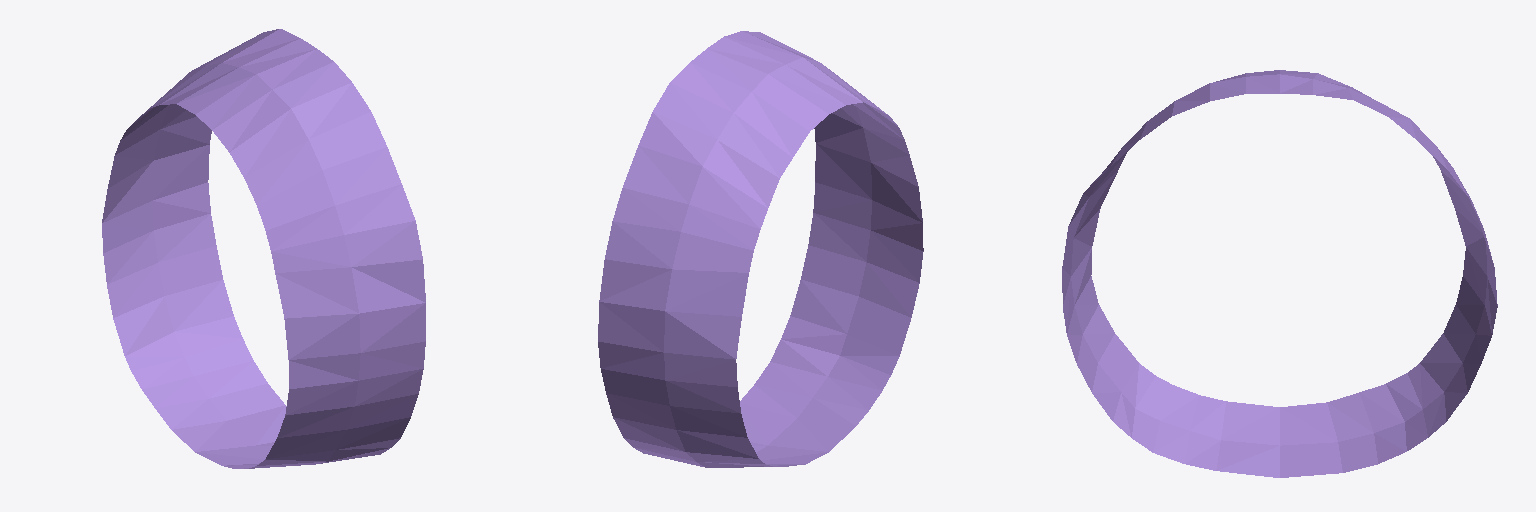
Rendered from head.obj.
3 renders of one model, left to right at view 1: azimuth 30°, elevation 25°; view 2: azimuth 150°, elevation 25°; view 3: azimuth 270°, elevation 25°, orthographic.
Visible parts, largest first — view 1: Cylinder005; view 2: Cylinder005; view 3: Cylinder005.
Boxes of the visible parts, <box> form: Cylinder005: <box>102,29,425,468</box>; Cylinder005: <box>598,31,923,467</box>; Cylinder005: <box>1062,70,1497,477</box>.
Bounding box in the file's own units: 15.67 × 47 × 48.22.